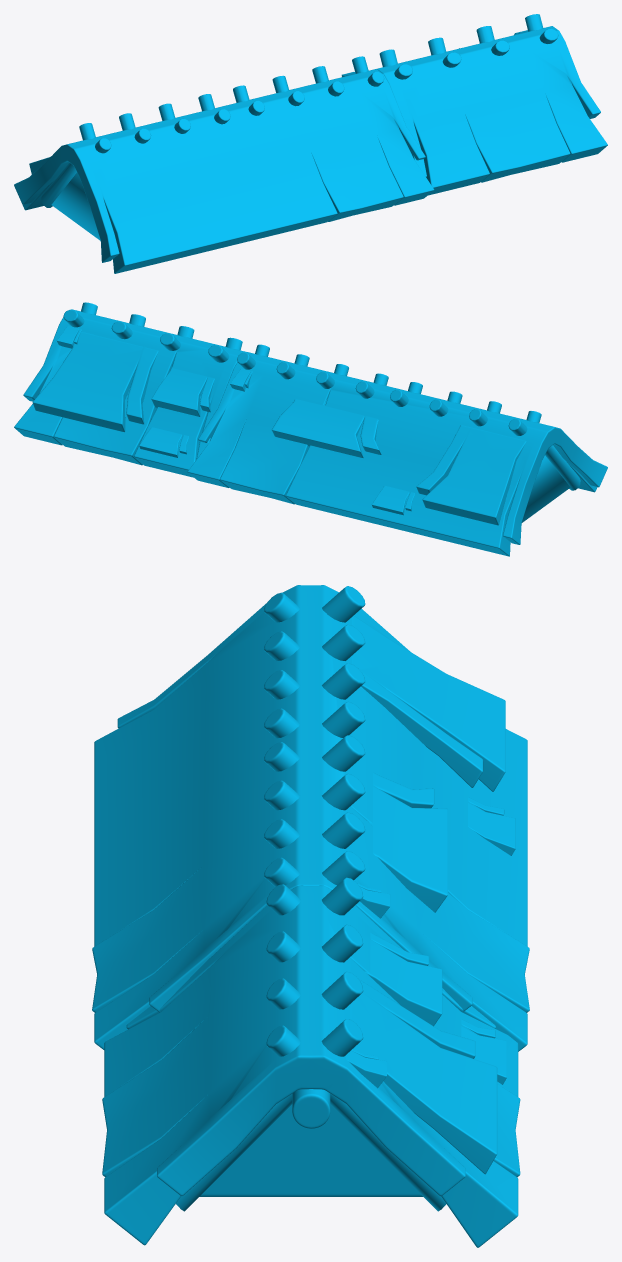
The model's file is SM_Clay_Roof_05.fbx.
The picture shows the model from 3 angles, top to bottom: view 1: azimuth 30°, elevation 25°; view 2: azimuth 150°, elevation 25°; view 3: azimuth 270°, elevation 25°; orthographic projection. The views are drawn at different scales.
Parts seen in each view (by area): view 1: SM_Clay_Roof_05; view 2: SM_Clay_Roof_05; view 3: SM_Clay_Roof_05.
Boxes of the visible parts, x1,y1,x2,y2 form: SM_Clay_Roof_05: [14, 14, 607, 273]; SM_Clay_Roof_05: [14, 302, 607, 556]; SM_Clay_Roof_05: [92, 585, 529, 1247].
Bounding box in the file's own units: 7.88 × 1.61 × 3.
